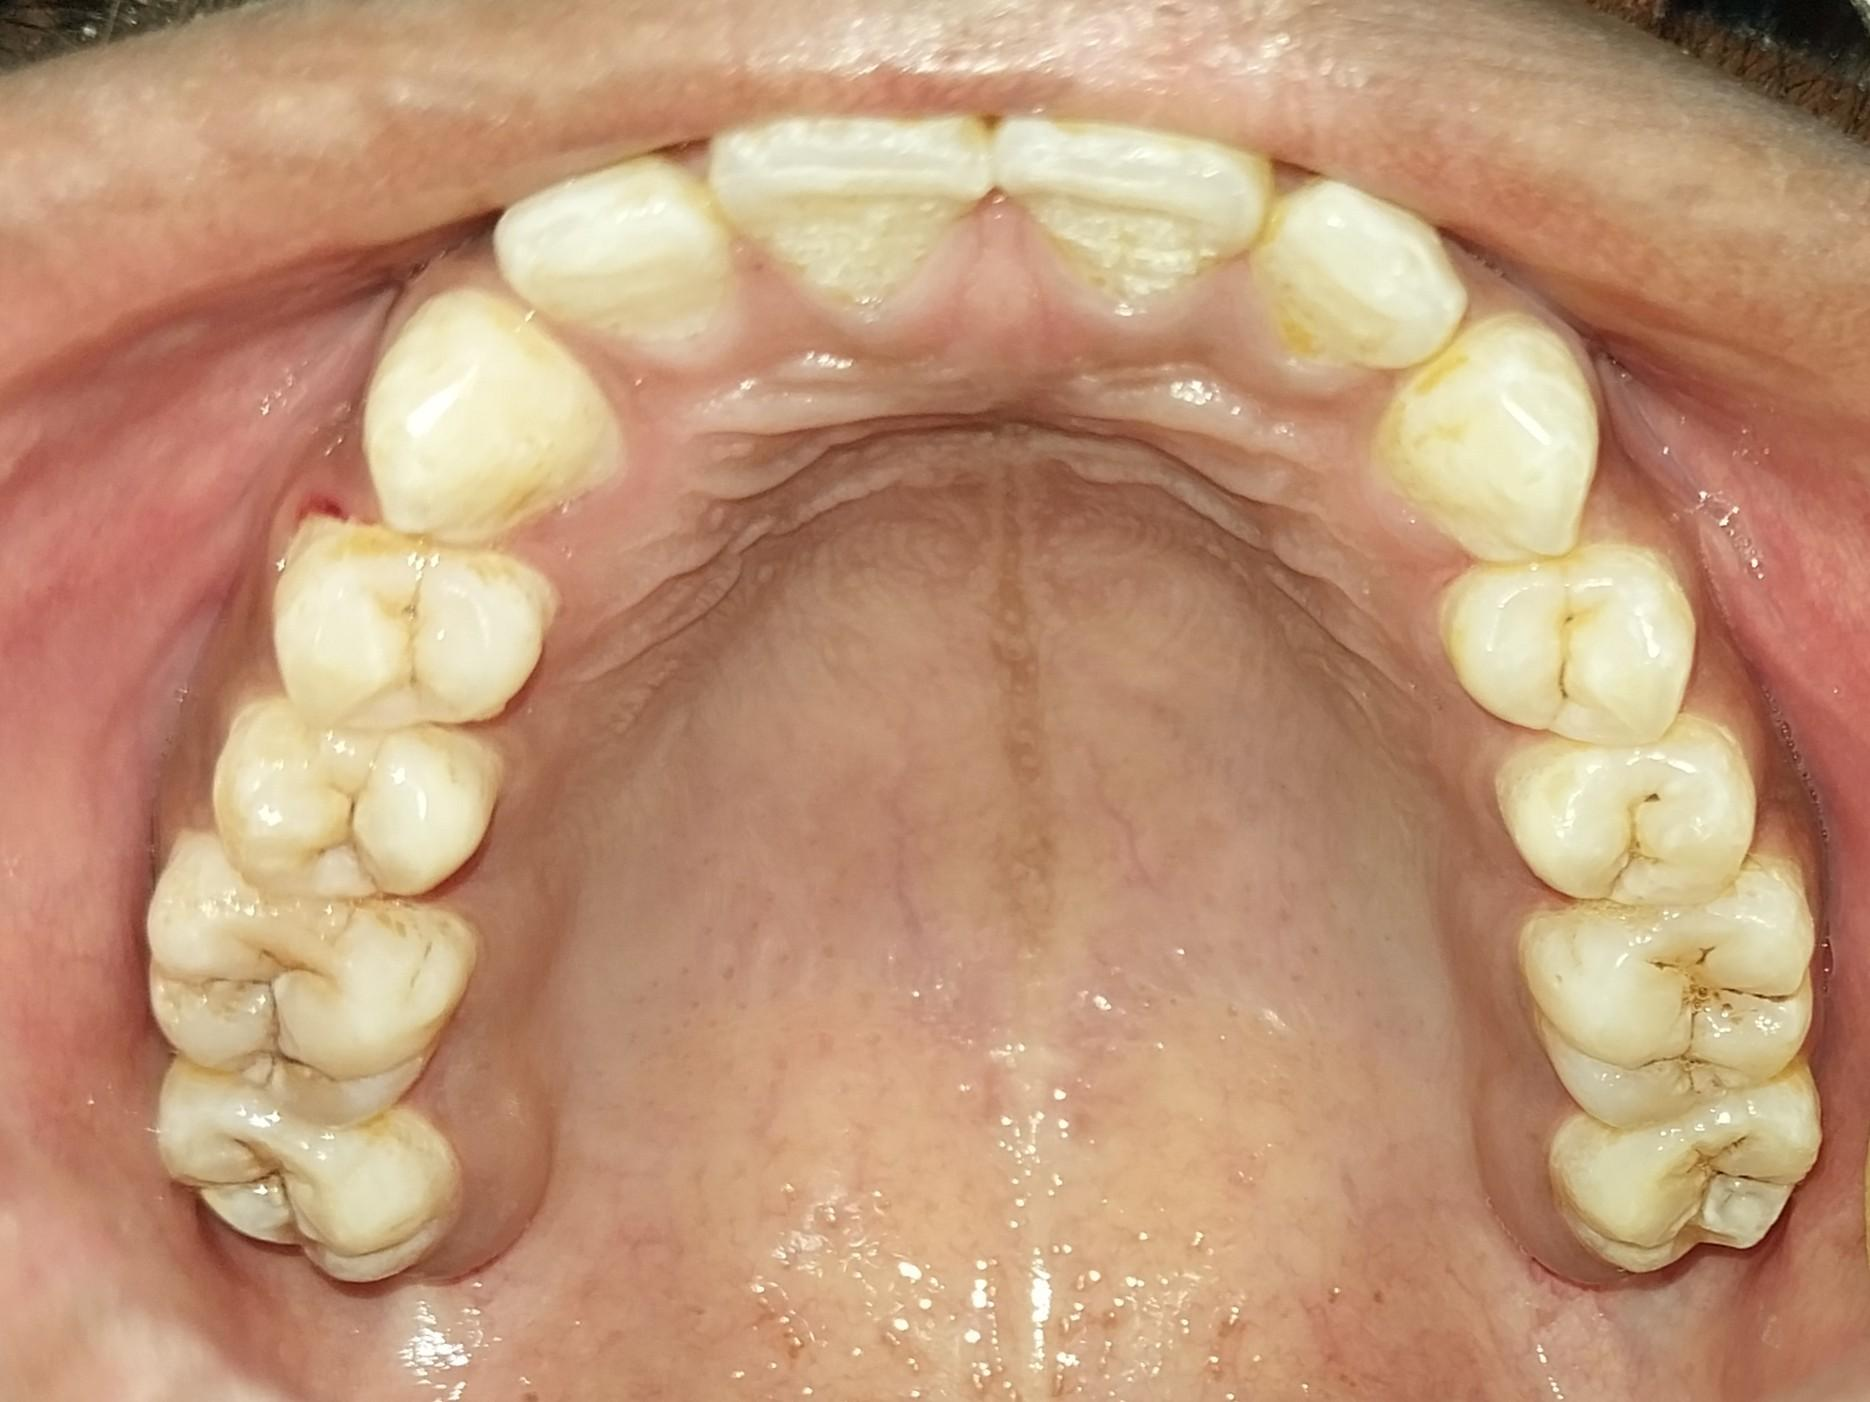D: (139, 862, 461, 1122), (1508, 860, 1818, 1112), (132, 1053, 468, 1281), (1561, 1079, 1808, 1277), (1454, 541, 1694, 739), (1513, 722, 1758, 908)
